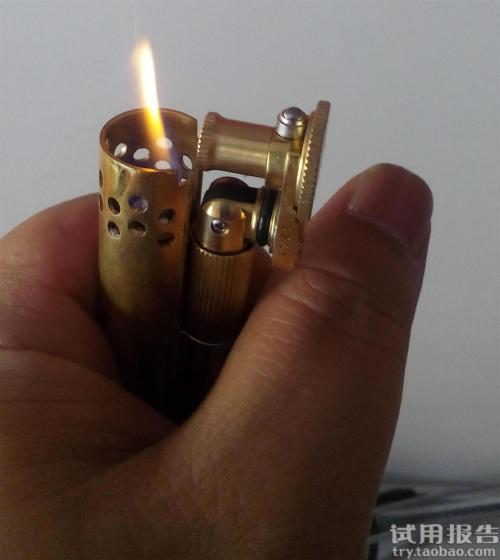fire: (113, 22, 202, 157)
